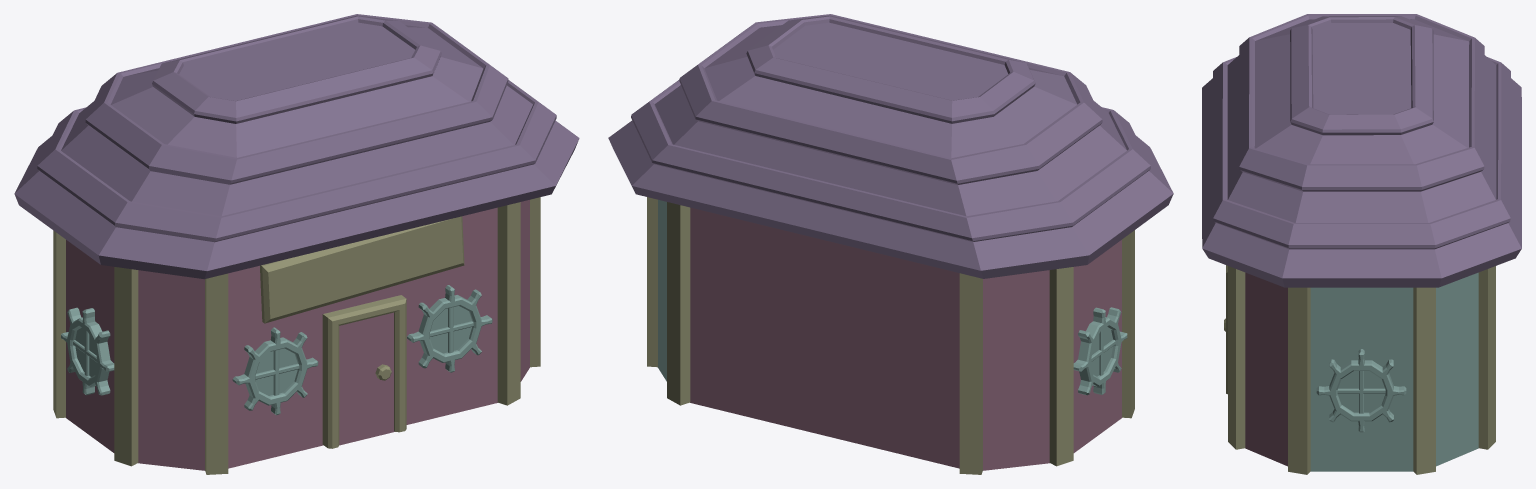
The model's file is Market.fbx.
3 renders of one model, left to right at view 1: azimuth 30°, elevation 25°; view 2: azimuth 150°, elevation 25°; view 3: azimuth 270°, elevation 25°, orthographic. The views are drawn at different scales.
Visible parts, largest first — view 1: House; view 2: House; view 3: House.
Boxes of the visible parts, x1,y1,x2,y2 form: House: (14,14,579,474); House: (608,14,1173,474); House: (1202,14,1521,474).
Bounding box in the file's own units: 7.13 × 4.67 × 4.34.
